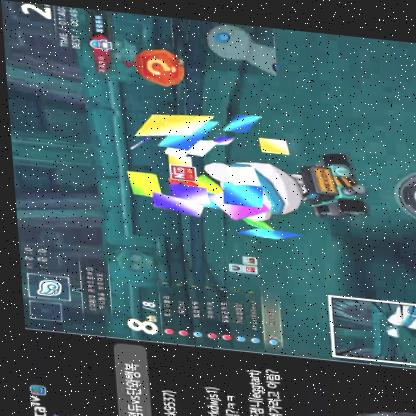streamer: (327, 372, 416, 416)
